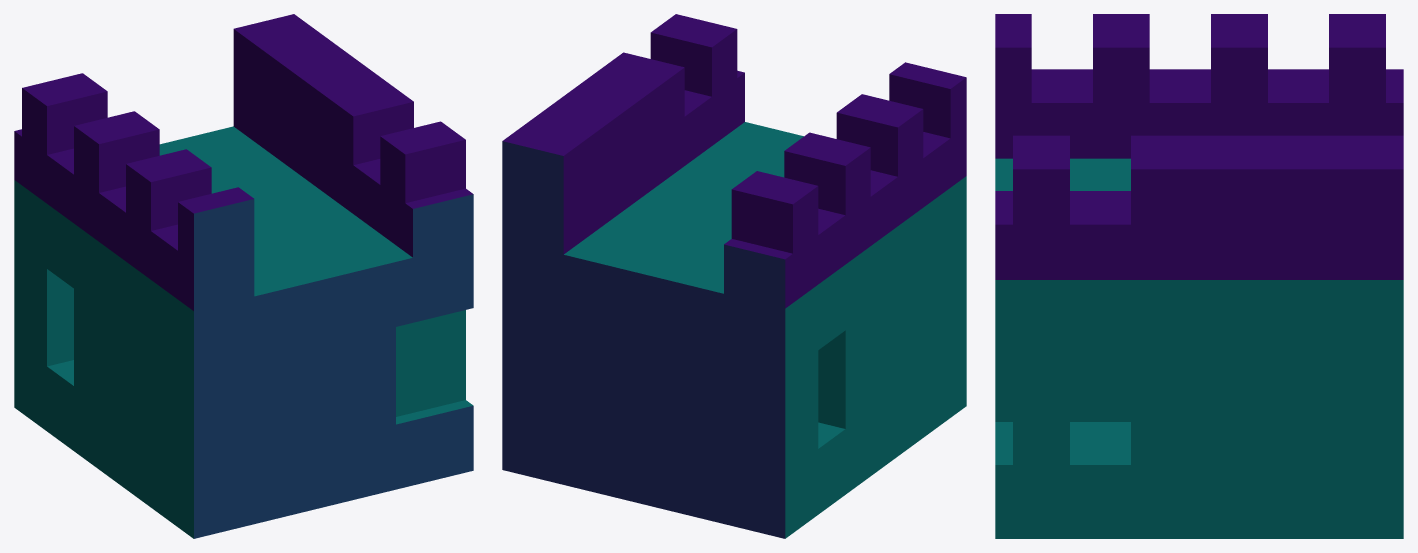
The model's file is Roof_02_H_L.fbx.
The picture shows the model from 3 angles, left to right: view 1: azimuth 30°, elevation 25°; view 2: azimuth 150°, elevation 25°; view 3: azimuth 270°, elevation 25°; orthographic projection. The views are drawn at different scales.
Visible parts, largest first — view 1: 3, 1, 4, 2; view 2: 4, 2, 3, 1; view 3: 2, 1, 3, 4.
Part boxes in pixels (x1,y1,x2,y2): 3: (104, 149, 333, 538); 1: (254, 79, 473, 504); 4: (14, 73, 217, 472); 2: (159, 14, 383, 208); 4: (643, 132, 875, 538); 2: (502, 74, 731, 504); 3: (778, 62, 966, 472); 1: (593, 14, 803, 206); 2: (1199, 135, 1403, 538); 1: (995, 135, 1199, 538); 3: (995, 14, 1199, 190); 4: (1199, 14, 1403, 135).
Bounding box in the file's own units: 180 × 200 × 200.
